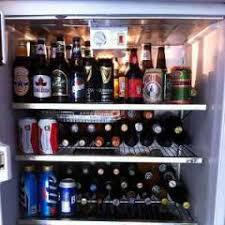beer: (10, 37, 198, 104), (19, 165, 193, 215), (17, 111, 193, 156)
